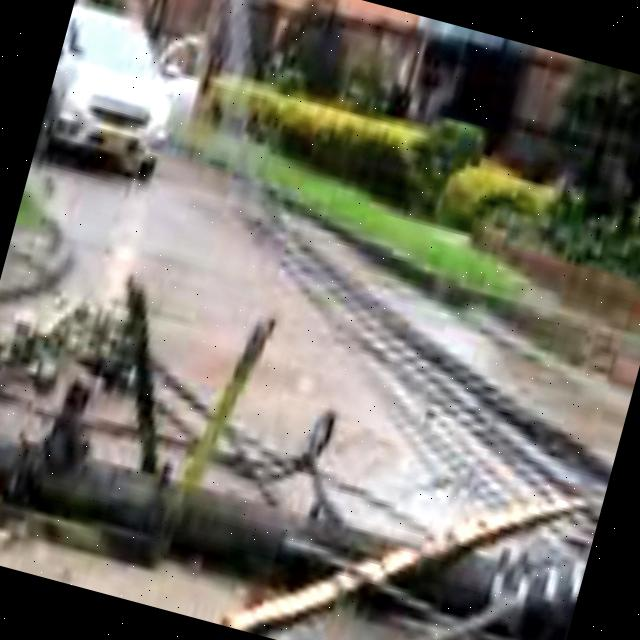Broken Pole: (0, 428, 576, 640)
